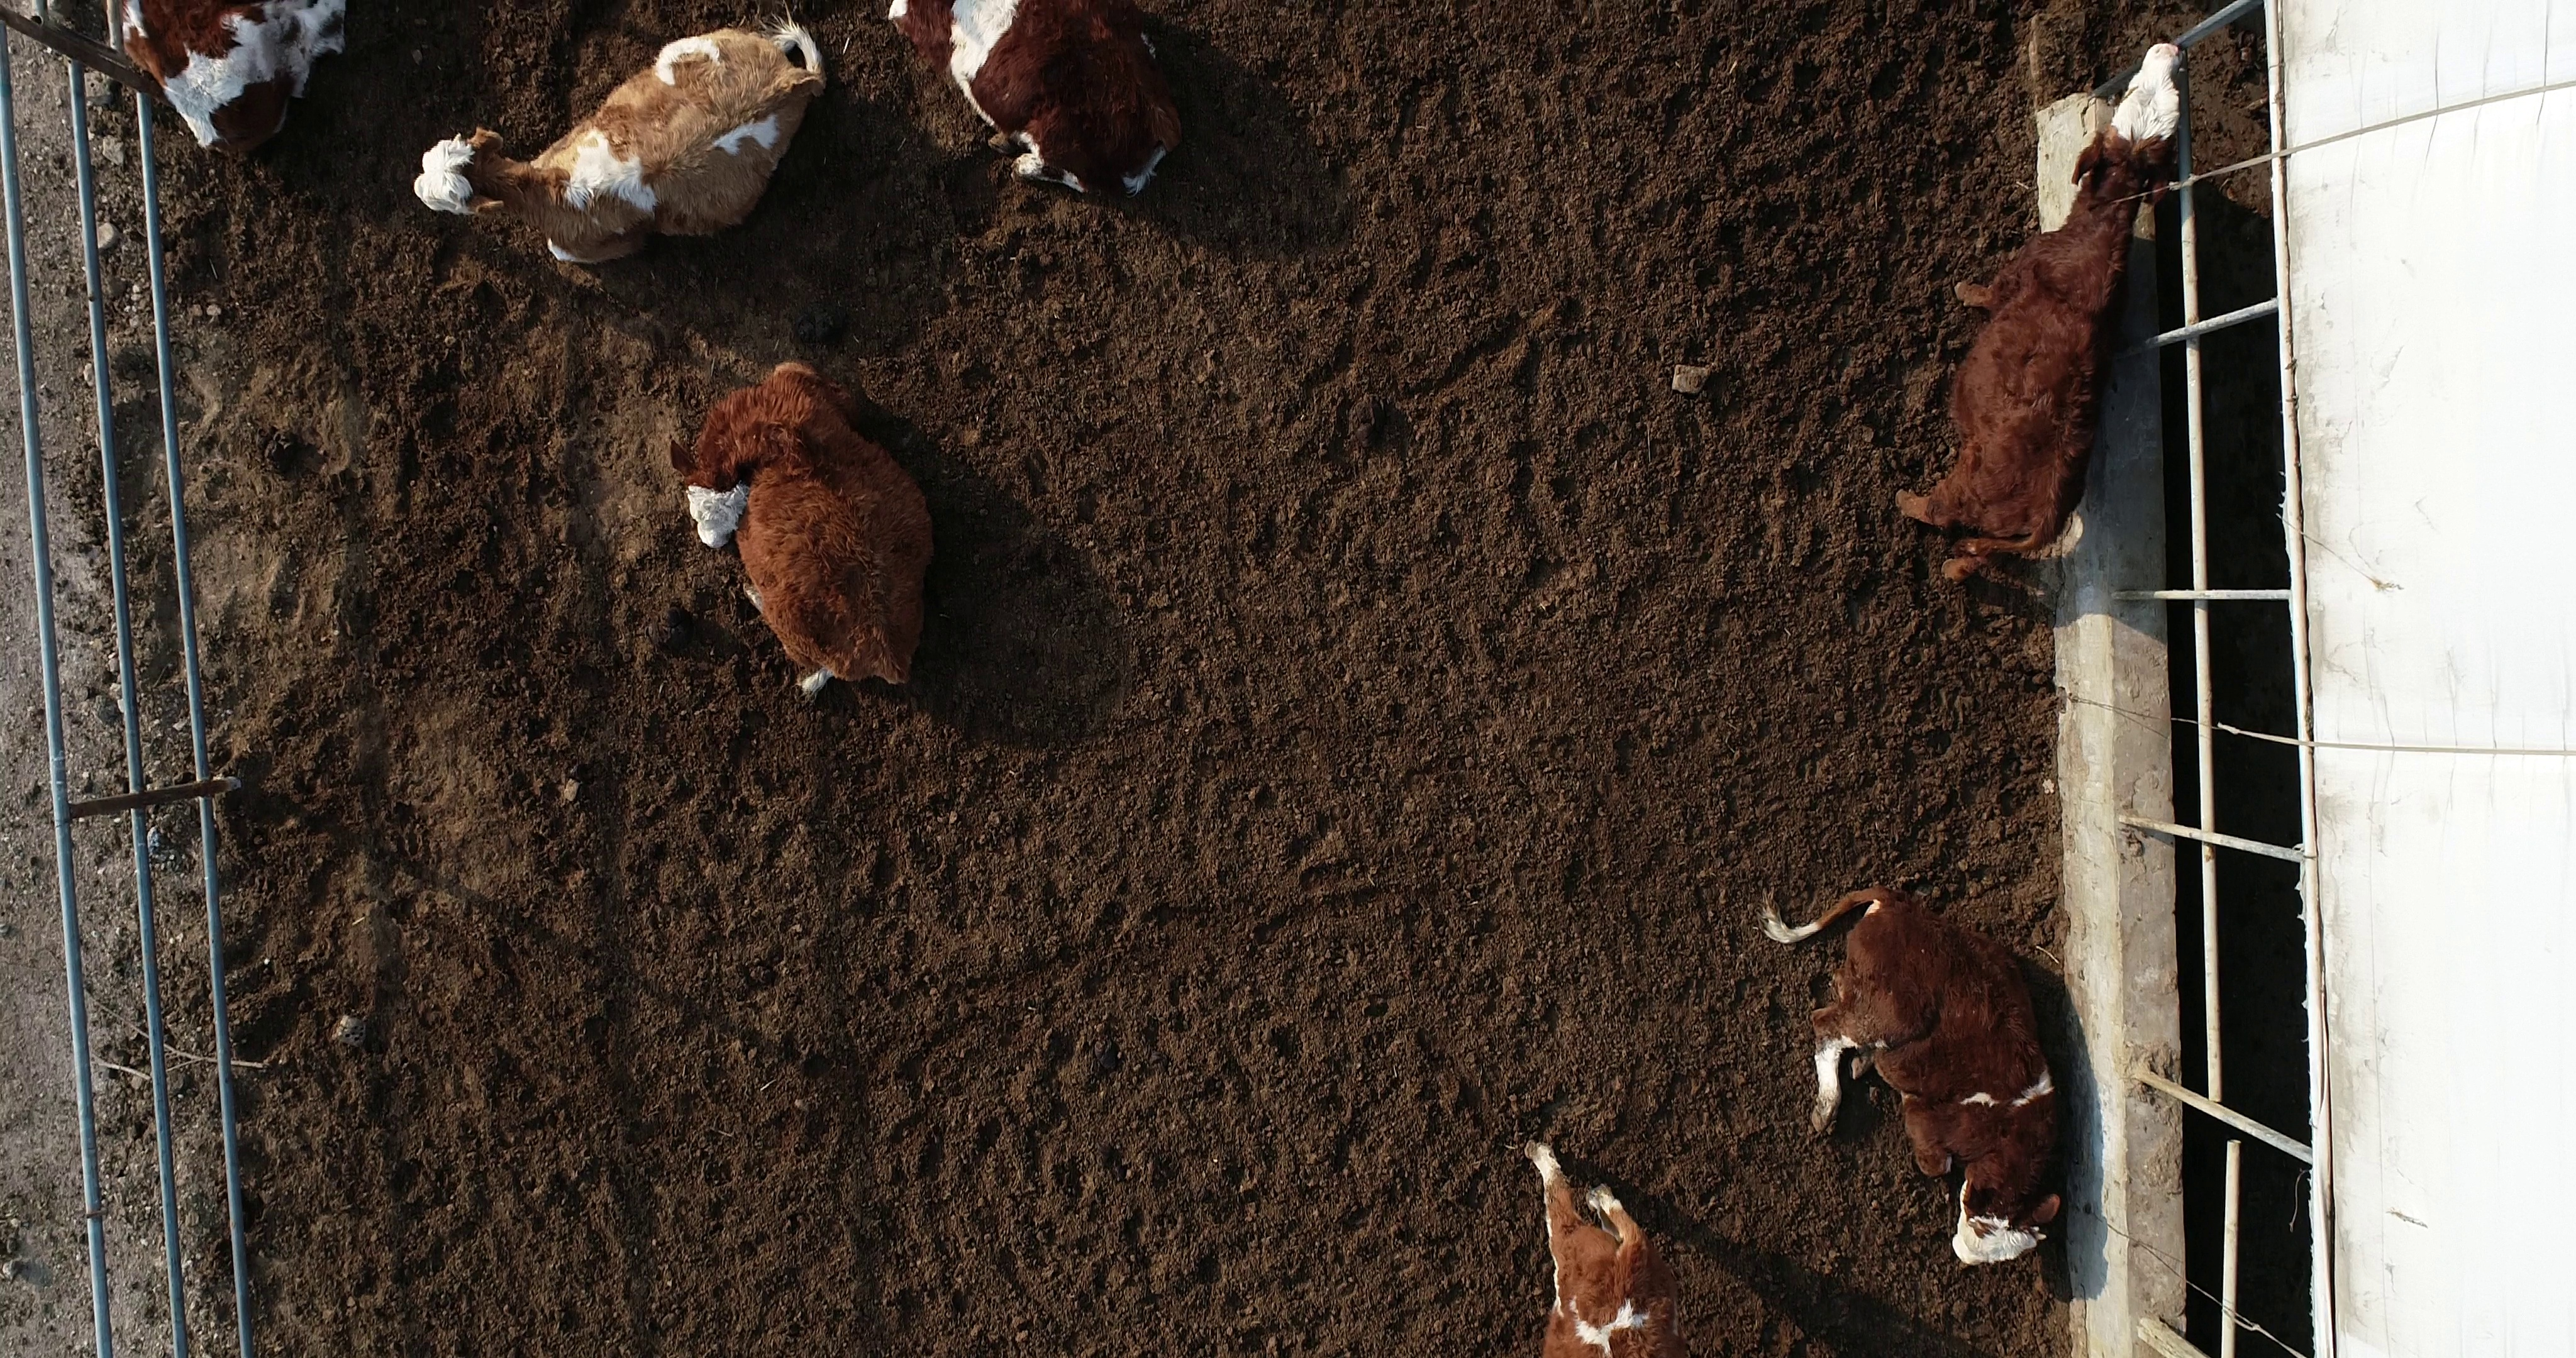cattle: (1888, 34, 2182, 593), (405, 2, 833, 268), (664, 354, 944, 705)
